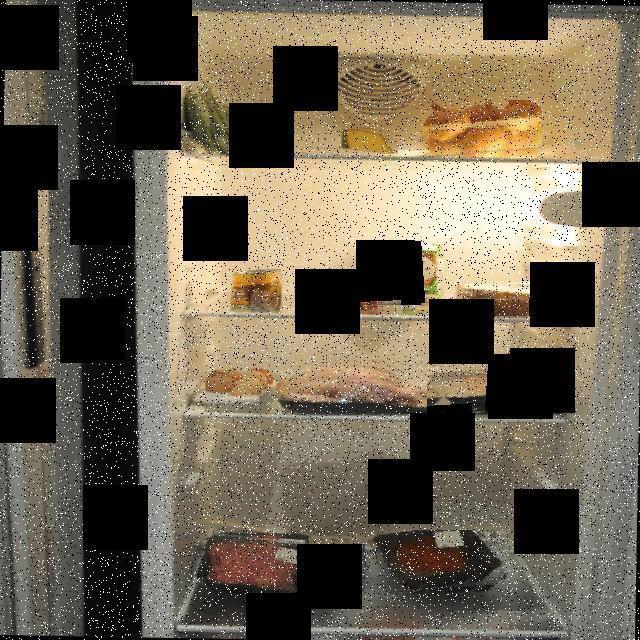beef: (372, 530, 510, 596)
bread: (454, 278, 550, 316)
cheese: (338, 126, 398, 154)
chicken: (271, 355, 448, 413)
chicken_breast: (427, 367, 565, 416)
chocolate: (299, 544, 366, 594)
corn: (230, 269, 282, 312)
eggs: (200, 365, 273, 404)
green_beans: (182, 83, 270, 156)
ground_beef: (194, 531, 308, 594)
heavy_cream: (403, 237, 444, 303)
onion: (416, 100, 542, 159)
strawberries: (292, 266, 402, 310)
